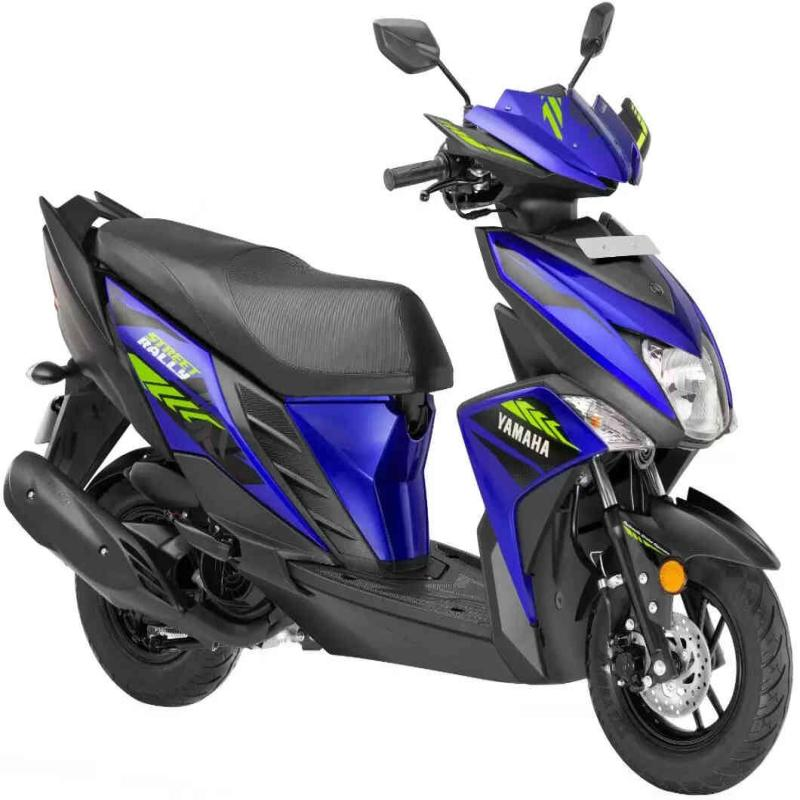bike: (25, 5, 783, 800)
